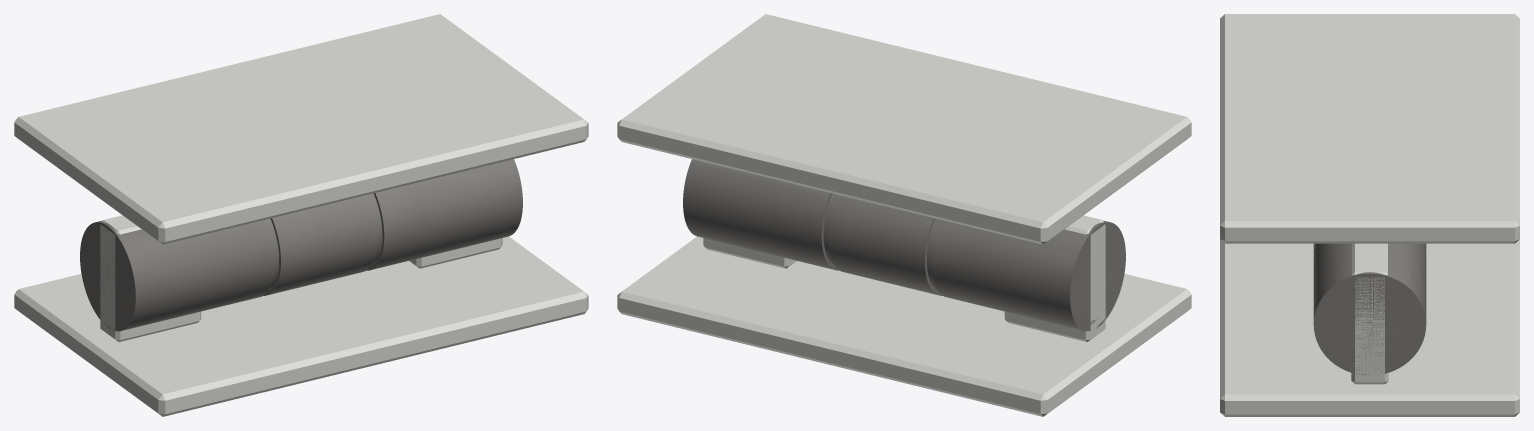
The model's file is ax_util_12_hinge_m.glb.
3 views of the same model, side by side, from view 1: azimuth 30°, elevation 25°; view 2: azimuth 150°, elevation 25°; view 3: azimuth 270°, elevation 25° (orthographic).
Parts seen in each view (by area): view 1: top_plate, base_leaf, knuckle_actuator, lugs, top_leaf; view 2: top_plate, base_leaf, knuckle_actuator, lugs, top_leaf; view 3: top_plate, base_leaf, knuckle_actuator, lugs, top_leaf.
Part boxes in pixels (box(x1,y1,x2,y2)): top_plate: box(14, 14, 588, 244); base_leaf: box(14, 236, 588, 416); knuckle_actuator: box(80, 159, 522, 331); lugs: box(100, 215, 502, 341); top_leaf: box(212, 92, 391, 142); top_plate: box(617, 14, 1191, 244); base_leaf: box(617, 236, 1191, 416); knuckle_actuator: box(683, 159, 1125, 331); lugs: box(703, 215, 1105, 341); top_leaf: box(814, 92, 993, 143); top_plate: box(1220, 14, 1519, 243); base_leaf: box(1220, 239, 1519, 416); knuckle_actuator: box(1313, 243, 1426, 375); lugs: box(1351, 243, 1388, 384); top_leaf: box(1355, 77, 1384, 158).
Size of the model in its own units: 0.8 by 0.346 by 0.48.
Materials: 2 (1 with a texture image).
